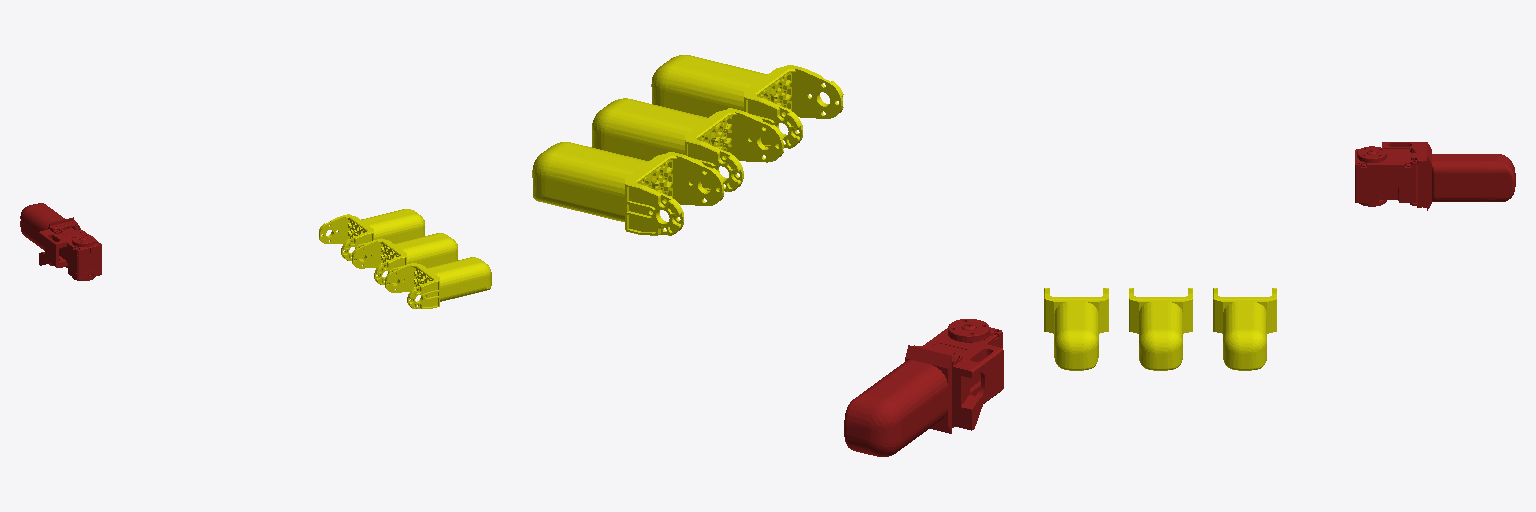
The robot description file, URDF, robot "onshape":
<robot name="onshape">
    <link name="palm_lower">
        <visual>
            <origin xyz="-0.020095249652862544332 0.025757756134899473244 -0.034722403578460216134" rpy="0 -0 0" />
            <geometry>
            <mesh filename="palm_lower.stl"/>
            </geometry>
            <material name="palm_lower_material">
            <color rgba="0.60392156862745094426 0.14901960784313725283 0.14901960784313725283 1.0"/>
            </material>
        </visual>
        <collision>
            <origin xyz="-0.020095249652862544332 0.025757756134899473244 -0.034722403578460216134" rpy="0 -0 0" />
            <geometry>
            <mesh filename="palm_lower.stl"/>
            </geometry>
        </collision>
        <inertial>
            <origin xyz="0 0 0" rpy="0 0 0"/>
            <mass value="0.237" />
            <inertia ixx="0.000354094" ixy="-0.000001193"  ixz="-0.000002445" iyy="0.000260915" iyz="-0.000002905" izz="0.000529257" />
        </inertial>
    </link>

    <link name="mcp_joint">
        <visual>
            <origin xyz="0.0084069022611744960438 0.0077662438597169954416 0.014657354985032912051" rpy="1.6375789613220999807e-15 -1.0210473302491019535e-30 1.7177968783327987474e-31" />
            <geometry>
            <mesh filename="mcp_joint.stl"/>
            </geometry>
            <material name="mcp_joint_material">
            <color rgba="0.86666666666666669627 0.86666666666666669627 0.050980392156862744391 1.0"/>
            </material>
        </visual>
        <collision>
            <origin xyz="0.0084069022611744960438 0.0077662438597169954416 0.014657354985032912051" rpy="1.6375789613220999807e-15 -1.0210473302491019535e-30 1.7177968783327987474e-31" />
            <geometry>
            <mesh filename="mcp_joint.stl"/>
            </geometry>
        </collision>
        <inertial>
            <origin xyz="0 0 0" rpy="0 0 0"/>
            <mass value="0.044" />
            <inertia ixx="0.000011499" ixy="0.000003049"  ixz="0.000000121" iyy="0.000007796" iyz="0.000000112" izz="0.000014759" />
        </inertial>
    </link>

<link name="pip">
<visual>
<origin xyz="0.0096433630922713280131 0.00029999999999998951117 0.00078403401041737645627" rpy="-1.570796326794896558 -1.570796326794896336 0" />
<geometry>
<mesh filename="pip.stl"/>
</geometry>
<material name="pip_material">
<color rgba="0.74901960784313725839 0.74901960784313725839 0.74901960784313725839 1.0"/>
</material>
</visual>
<collision>
<origin xyz="0.0096433630922713280131 0.00029999999999998951117 0.00078403401041737645627" rpy="-1.570796326794896558 -1.570796326794896336 0" />
<geometry>
<mesh filename="pip.stl"/>
</geometry>
</collision>
<inertial>
<origin xyz="0 0 0" rpy="0 0 0"/>
<mass value="0.032" />
<inertia ixx="0.000004798" ixy="0.000000012"  ixz="0.000000004" iyy="0.000002862" iyz="0.000000011" izz="0.000004234" />
</inertial>
</link>

<link name="dip">
<visual>
<origin xyz="0.021133352895225002849 -0.0084321191467048792201 0.0097850881620952408213" rpy="-3.141592653589793116 4.5075111242164408299e-32 4.4395481053923607589e-32" />
<geometry>
<mesh filename="dip.stl"/>
</geometry>
<material name="dip_material">
<color rgba="0.86666666666666669627 0.86666666666666669627 0.050980392156862744391 1.0"/>
</material>
</visual>
<collision>
<origin xyz="0.021133352895225002849 -0.0084321191467048792201 0.0097850881620952408213" rpy="-3.141592653589793116 4.5075111242164408299e-32 4.4395481053923607589e-32" />
<geometry>
<mesh filename="dip.stl"/>
</geometry>
</collision>
<inertial>
<origin xyz="0 0 0" rpy="0 0 0"/>
<mass value="0.037" />
<inertia ixx="0.000005542" ixy="-0.000000607"  ixz="-0.000000017" iyy="0.000005727" iyz="-0.000000023" izz="0.000006682" />
</inertial>
</link>

<link name="fingertip">
<visual>
<origin xyz="0.013286424108533503169 -0.0061142383865419869249 0.014499999999999497666" rpy="3.141592653589793116 1.1993117970061734707e-33 4.4395481053923607589e-32" />
<geometry>
<mesh filename="fingertip.stl"/>
</geometry>
<material name="fingertip_material">
<color rgba="0.86666666666666669627 0.86666666666666669627 0.050980392156862744391 1.0"/>
</material>
</visual>
<collision>
<origin xyz="0.013286424108533503169 -0.0061142383865419869249 0.014499999999999497666" rpy="3.141592653589793116 1.1993117970061734707e-33 4.4395481053923607589e-32" />
<geometry>
<mesh filename="fingertip.stl"/>
</geometry>
</collision>
<inertial>
<origin xyz="0 0 0" rpy="0 0 0"/>
<mass value="0.016" />
<inertia ixx="0.000003368" ixy="0.000000115"  ixz="0" iyy="0.000001556" iyz="0" izz="0.000002863" />
</inertial>
</link>

<joint name="0" type="revolute">
<origin xyz="-0.012200000000000007713 0.038099999999999994982 0.014500000000000000736" rpy="-1.570796326794896558 -1.0065212660796336576e-15 1.5707963267948943376" />
<parent link="mcp_joint" />
<child link="pip" />
<axis xyz="0 0 -1"/>
<limit effort="0.95" velocity="8.48" lower = "-1.047" upper = "1.047"/>
<joint_properties friction="0.0"/>
</joint>

<joint name="1" type="revolute">
<origin xyz="-0.0070952496528625457958 0.023057756134899472233 -0.01872240357846021927" rpy="1.5707963267948950037 1.5707963267948945596 0" />
<parent link="palm_lower" />
<child link="mcp_joint" />
<axis xyz="0 0 -1"/>
<limit effort="0.95" velocity="8.48" lower = "-0.314" upper = "2.23"/>
<joint_properties friction="0.0"/>
</joint>

<joint name="2" type="revolute">
<origin xyz="0.01499999999999996822 0.014299999999999904801 -0.012999999999999824196" rpy="1.5707963267948958919 -1.570796326794896336 0" />
<parent link="pip" />
<child link="dip" />
<axis xyz="0 0 -1"/>
<limit effort="0.95" velocity="8.48" lower = "-0.506" upper = "1.885"/>  
<joint_properties friction="0.0"/>
</joint>

<joint name="3" type="revolute">
<origin xyz="-4.0880582495572692636e-09 -0.036100004210367367397 0.00020000000000007858714" rpy="4.5935029425113685044e-17 -2.8730071914463794583e-16 4.4395481053923607589e-32" />
<parent link="dip" />
<child link="fingertip" />
<axis xyz="0 0 -1"/>
<limit effort="0.95" velocity="8.48" lower = "-0.366" upper = "2.042"/>   
<joint_properties friction="0.0"/>
</joint>

<link name="mcp_joint_2">
<visual>
<origin xyz="0.0084069022611744960438 0.0077662438597169954416 0.014657354985032913786" rpy="1.6375789613220999807e-15 -1.0076465469034000467e-30 2.1209300131419907151e-61" />
<geometry>
<mesh filename="mcp_joint.stl"/>
</geometry>
<material name="mcp_joint_material">
<color rgba="0.86666666666666669627 0.86666666666666669627 0.050980392156862744391 1.0"/>
</material>
</visual>
<collision>
<origin xyz="0.0084069022611744960438 0.0077662438597169954416 0.014657354985032913786" rpy="1.6375789613220999807e-15 -1.0076465469034000467e-30 2.1209300131419907151e-61" />
<geometry>
<mesh filename="mcp_joint.stl"/>
</geometry>
</collision>
<inertial>
<origin xyz="0 0 0" rpy="0 0 0"/>
<mass value="0.044" />
<inertia ixx="0.000011499" ixy="0.000003049"  ixz="0.000000121" iyy="0.000007796" iyz="0.000000112" izz="0.000014759" />
</inertial>
</link>

<link name="pip_2">
<visual>
<origin xyz="0.0096433630922713280131 0.00029999999999999471534 0.00078403401041737645627" rpy="-1.570796326794896558 -1.570796326794896336 0" />
<geometry>
<mesh filename="pip.stl"/>
</geometry>
<material name="pip_material">
<color rgba="0.74901960784313725839 0.74901960784313725839 0.74901960784313725839 1.0"/>
</material>
</visual>
<collision>
<origin xyz="0.0096433630922713280131 0.00029999999999999471534 0.00078403401041737645627" rpy="-1.570796326794896558 -1.570796326794896336 0" />
<geometry>
<mesh filename="pip.stl"/>
</geometry>
</collision>
<inertial>
<origin xyz="0 0 0" rpy="0 0 0"/>
<mass value="0.032" />
<inertia ixx="0.000004798" ixy="0.000000012"  ixz="0.000000004" iyy="0.000002862" iyz="0.000000011" izz="0.000004234" />
</inertial>
</link>

<link name="dip_2">
<visual>
<origin xyz="0.021133352895225002849 -0.0084321191467048653423 0.0097850881620952373519" rpy="-3.141592653589793116 2.1146933785271955805e-32 1.4408183216511868558e-31" />
<geometry>
<mesh filename="dip.stl"/>
</geometry>
<material name="dip_material">
<color rgba="0.86666666666666669627 0.86666666666666669627 0.050980392156862744391 1.0"/>
</material>
</visual>
<collision>
<origin xyz="0.021133352895225002849 -0.0084321191467048653423 0.0097850881620952373519" rpy="-3.141592653589793116 2.1146933785271955805e-32 1.4408183216511868558e-31" />
<geometry>
<mesh filename="dip.stl"/>
</geometry>
</collision>
<inertial>
<origin xyz="0 0 0" rpy="0 0 0"/>
<mass value="0.037" />
<inertia ixx="0.000005542" ixy="-0.000000607"  ixz="-0.000000017" iyy="0.000005727" iyz="-0.000000023" izz="0.000006682" />
</inertial>
</link>

<link name="fingertip_2">
<visual>
<origin xyz="0.01328642410853349623 -0.0061142383865420008027 0.014499999999999495931" rpy="3.141592653589793116 -4.3179597882835943107e-33 1.4408183216511868558e-31" />
<geometry>
<mesh filename="fingertip.stl"/>
</geometry>
<material name="fingertip_material">
<color rgba="0.86666666666666669627 0.86666666666666669627 0.050980392156862744391 1.0"/>
</material>
</visual>
<collision>
<origin xyz="0.01328642410853349623 -0.0061142383865420008027 0.014499999999999495931" rpy="3.141592653589793116 -4.3179597882835943107e-33 1.4408183216511868558e-31" />
<geometry>
<mesh filename="fingertip.stl"/>
</geometry>
</collision>
<inertial>
<origin xyz="0 0 0" rpy="0 0 0"/>
<mass value="0.016" />
<inertia ixx="0.000003368" ixy="0.000000115"  ixz="0" iyy="0.000001556" iyz="0" izz="0.000002863" />
</inertial>
</link>

<joint name="4" type="revolute">
<origin xyz="-0.012200000000000019856 0.038099999999999981104 0.01450000000000000594" rpy="-1.570796326794896558 -1.0065212760057939085e-15 1.5707963267948943376" />
<parent link="mcp_joint_2" />
<child link="pip_2" />
<axis xyz="0 0 -1"/>
<limit effort="0.95" velocity="8.48" lower = "-1.047" upper = "1.047"/>
<joint_properties friction="0.0"/>
</joint>

<joint name="5" type="revolute">
<origin xyz="-0.0070952496528625388569 -0.022392243865100525113 -0.018722403578460229678" rpy="1.570796326794896558 1.570796326794896558 0" />
<parent link="palm_lower" />
<child link="mcp_joint_2" />
<axis xyz="0 0 -1"/>
<limit effort="0.95" velocity="8.48" lower = "-0.314" upper = "2.23"/>
<joint_properties friction="0.0"/>
</joint>

<joint name="6" type="revolute">
<origin xyz="0.014999999999999975159 0.014300000000000000211 -0.013000000000000018485" rpy="1.5707963267948958919 -1.570796326794896336 0" />
<parent link="pip_2" />
<child link="dip_2" />
<axis xyz="0 0 -1"/>
<limit effort="0.95" velocity="8.48" lower = "-0.506" upper = "1.885"/>  
<joint_properties friction="0.0"/>
</joint>

<joint name="7" type="revolute">
<origin xyz="1.0061396160665481148e-16 -0.036099999999999854428 0.00020000000000007858714" rpy="4.5935029425113654229e-17 -2.8730071914463794583e-16 1.4408183216511868558e-31" />
<parent link="dip_2" />
<child link="fingertip_2" />
<axis xyz="0 0 -1"/>
<limit effort="0.95" velocity="8.48" lower = "-0.366" upper = "2.042"/>   
<joint_properties friction="0.0"/>
</joint>

<link name="mcp_joint_3">
<visual>
<origin xyz="0.0084069022611744995133 0.0077662438597169963089 0.014657354985032913786" rpy="1.6375789613220999807e-15 -1.0059504988632626953e-30 5.729641584552035421e-32" />
<geometry>
<mesh filename="mcp_joint.stl"/>
</geometry>
<material name="mcp_joint_material">
<color rgba="0.86666666666666669627 0.86666666666666669627 0.050980392156862744391 1.0"/>
</material>
</visual>
<collision>
<origin xyz="0.0084069022611744995133 0.0077662438597169963089 0.014657354985032913786" rpy="1.6375789613220999807e-15 -1.0059504988632626953e-30 5.729641584552035421e-32" />
<geometry>
<mesh filename="mcp_joint.stl"/>
</geometry>
</collision>
<inertial>
<origin xyz="0 0 0" rpy="0 0 0"/>
<mass value="0.044" />
<inertia ixx="0.000011499" ixy="0.000003049"  ixz="0.000000121" iyy="0.000007796" iyz="0.000000112" izz="0.000014759" />
</inertial>
</link>

<link name="pip_3">
<visual>
<origin xyz="0.0096433630922713314826 0.00029999999999998083755 0.00078403401041737645627" rpy="-1.570796326794896558 -1.570796326794896336 0" />
<geometry>
<mesh filename="pip.stl"/>
</geometry>
<material name="pip_material">
<color rgba="0.74901960784313725839 0.74901960784313725839 0.74901960784313725839 1.0"/>
</material>
</visual>
<collision>
<origin xyz="0.0096433630922713314826 0.00029999999999998083755 0.00078403401041737645627" rpy="-1.570796326794896558 -1.570796326794896336 0" />
<geometry>
<mesh filename="pip.stl"/>
</geometry>
</collision>
<inertial>
<origin xyz="0 0 0" rpy="0 0 0"/>
<mass value="0.032" />
<inertia ixx="0.000004798" ixy="0.000000012"  ixz="0.000000004" iyy="0.000002862" iyz="0.000000011" izz="0.000004234" />
</inertial>
</link>

<link name="dip_3">
<visual>
<origin xyz="0.021133352895225006318 -0.0084321191467048653423 0.0097850881620952373519" rpy="-3.141592653589793116 -1.4095651113919093005e-33 1.5565411607615035382e-32" />
<geometry>
<mesh filename="dip.stl"/>
</geometry>
<material name="dip_material">
<color rgba="0.86666666666666669627 0.86666666666666669627 0.050980392156862744391 1.0"/>
</material>
</visual>
<collision>
<origin xyz="0.021133352895225006318 -0.0084321191467048653423 0.0097850881620952373519" rpy="-3.141592653589793116 -1.4095651113919093005e-33 1.5565411607615035382e-32" />
<geometry>
<mesh filename="dip.stl"/>
</geometry>
</collision>
<inertial>
<origin xyz="0 0 0" rpy="0 0 0"/>
<mass value="0.037" />
<inertia ixx="0.000005542" ixy="-0.000000607"  ixz="-0.000000017" iyy="0.000005727" iyz="-0.000000023" izz="0.000006682" />
</inertial>
</link>

<link name="fingertip_3">
<visual>
<origin xyz="0.013286424108533501434 -0.0061142383865419869249 0.0144999999999994994" rpy="3.141592653589793116 8.6170716950575402125e-33 1.5565411607615035382e-32" />
<geometry>
<mesh filename="fingertip.stl"/>
</geometry>
<material name="fingertip_material">
<color rgba="0.86666666666666669627 0.86666666666666669627 0.050980392156862744391 1.0"/>
</material>
</visual>
<collision>
<origin xyz="0.013286424108533501434 -0.0061142383865419869249 0.0144999999999994994" rpy="3.141592653589793116 8.6170716950575402125e-33 1.5565411607615035382e-32" />
<geometry>
<mesh filename="fingertip.stl"/>
</geometry>
</collision>
<inertial>
<origin xyz="0 0 0" rpy="0 0 0"/>
<mass value="0.016" />
<inertia ixx="0.000003368" ixy="0.000000115"  ixz="0" iyy="0.000001556" iyz="0" izz="0.000002863" />
</inertial>
</link>

<joint name="8" type="revolute">
<origin xyz="-0.012200000000000004244 0.038100000000000001921 0.014499999999999999001" rpy="-1.570796326794896558 -1.0065212660796360242e-15 1.5707963267948943376" />
<parent link="mcp_joint_3" />
<child link="pip_3" />
<axis xyz="0 0 -1"/>
<limit effort="0.95" velocity="8.48" lower = "-1.047" upper = "1.047"/>
<joint_properties friction="0.0"/>
</joint>

<joint name="9" type="revolute">
<origin xyz="-0.0070952454426398371343 -0.067842243865100515521 -0.018722407666402932774" rpy="1.5707963267948950037 1.5707963267948945596 0" />
<parent link="palm_lower" />
<child link="mcp_joint_3" />
<axis xyz="0 0 -1"/>
<limit effort="0.95" velocity="8.48" lower = "-0.314" upper = "2.23"/>
<joint_properties friction="0.0"/>
</joint>

<joint name="10" type="revolute">
<origin xyz="0.014999999999999971689 0.014299999999999951639 -0.012999999999999959505" rpy="1.5707963267948958919 -1.570796326794896336 0" />
<parent link="pip_3" />
<child link="dip_3" />
<axis xyz="0 0 -1"/>
<limit effort="0.95" velocity="8.48" lower = "-0.506" upper = "1.885"/>  
<joint_properties friction="0.0"/>
</joint>

<joint name="11" type="revolute">
<origin xyz="9.7144514654701197287e-17 -0.036099999999999868305 0.00020000000000007511769" rpy="4.5935029425113685044e-17 -2.8730071914463799514e-16 1.5565411607615035382e-32" />
<parent link="dip_3" />
<child link="fingertip_3" />
<axis xyz="0 0 -1"/>
<limit effort="0.95" velocity="8.48" lower = "-0.366" upper = "2.042"/>   
<joint_properties friction="0.0"/>
</joint>

<link name="pip_4">
<visual>
<origin xyz="-0.0053566369077286714317 0.00029999999999999991951 0.00078403401041737819099" rpy="-1.570796326794896558 -1.570796326794896336 0" />
<geometry>
<mesh filename="pip.stl"/>
</geometry>
<material name="pip_material">
<color rgba="0.74901960784313725839 0.74901960784313725839 0.74901960784313725839 1.0"/>
</material>
</visual>
<collision>
<origin xyz="-0.0053566369077286714317 0.00029999999999999991951 0.00078403401041737819099" rpy="-1.570796326794896558 -1.570796326794896336 0" />
<geometry>
<mesh filename="pip.stl"/>
</geometry>
</collision>
<inertial>
<origin xyz="0 0 0" rpy="0 0 0"/>
<mass value="0.032" />
<inertia ixx="0.000004798" ixy="0.000000012"  ixz="0.000000004" iyy="0.000002862" iyz="0.000000011" izz="0.000004234" />
</inertial>
</link>

<link name="thumb_pip">
<visual>
<origin xyz="0.011961920770611186859 -5.3082538364890297089e-16 -0.015852648956664199681" rpy="1.570796326794896558 1.6050198443300152637e-46 -3.9204996250525192755e-59" />
<geometry>
<mesh filename="thumb_pip.stl"/>
</geometry>
<material name="thumb_pip_material">
<color rgba="0.86666666666666669627 0.86666666666666669627 0.050980392156862744391 1.0"/>
</material>
</visual>
<collision>
<origin xyz="0.011961920770611186859 -5.3082538364890297089e-16 -0.015852648956664199681" rpy="1.570796326794896558 1.6050198443300152637e-46 -3.9204996250525192755e-59" />
<geometry>
<mesh filename="thumb_pip.stl"/>
</geometry>
</collision>
<inertial>
<origin xyz="0 0 0" rpy="0 0 0"/>
<mass value="0.003" />
<inertia ixx="0.000000593" ixy="0"  ixz="0" iyy="0.000000549" iyz="0" izz="0.000000224" />
</inertial>
</link>

<link name="thumb_dip">
<visual>
<origin xyz="0.043968715707239175439 0.057952952973709198625 -0.0086286764493694757122" rpy="1.9428902930940098942e-16 3.2751579226442200773e-15 1.1123758529657360012e-46" />
<geometry>
<mesh filename="thumb_dip.stl"/>
</geometry>
<material name="thumb_dip_material">
<color rgba="0.86666666666666669627 0.86666666666666669627 0.050980392156862744391 1.0"/>
</material>
</visual>
<collision>
<origin xyz="0.043968715707239175439 0.057952952973709198625 -0.0086286764493694757122" rpy="1.9428902930940098942e-16 3.2751579226442200773e-15 1.1123758529657360012e-46" />
<geometry>
<mesh filename="thumb_dip.stl"/>
</geometry>
</collision>
<inertial>
<origin xyz="0 0 0" rpy="0 0 0"/>
<mass value="0.038" />
<inertia ixx="0.000008474" ixy="0.000000241"  ixz="0.000000026" iyy="0.000003841" iyz="0.000000025" izz="0.000007679" />
</inertial>
</link>

<link name="thumb_fingertip">
<visual>
<origin xyz="0.062559538462667388381 0.078459682911396988469 0.048992911807332215068" rpy="4.3790577010156367543e-47 -3.3306690738754701143e-16 1.2042408677791935383e-46" />
<geometry>
<mesh filename="thumb_fingertip.stl"/>
</geometry>
<material name="thumb_fingertip_material">
<color rgba="0.60392156862745094426 0.14901960784313725283 0.14901960784313725283 1.0"/>
</material>
</visual>
<collision>
<origin xyz="0.062559538462667388381 0.078459682911396988469 0.048992911807332215068" rpy="4.3790577010156367543e-47 -3.3306690738754701143e-16 1.2042408677791935383e-46" />
<geometry>
<mesh filename="thumb_fingertip.stl"/>
</geometry>
</collision>
<inertial>
<origin xyz="0 0 0" rpy="0 0 0"/>
<mass value="0.049" />
<inertia ixx="0.000020372" ixy="-0.000000489"  ixz="-0.00000003" iyy="0.000004336" iyz="-0.000000097" izz="0.000019845" />
</inertial>
</link>

<joint name="12" type="revolute">
<origin xyz="-0.069395249652862533996 -0.0012422438651005258004 -0.021622403578460215601" rpy="-8.2381766464939424156e-17 1.5707963267948956698 0" />
<parent link="palm_lower" />
<child link="pip_4" />
<axis xyz="0 0 -1"/>
<limit effort="0.95" velocity="8.48" lower = "-0.349" upper = "2.094"/> 
<joint_properties friction="0.0"/>
</joint>

<joint name="13" type="revolute">
<origin xyz="-2.7755575615628913511e-17 0.014300000000000005415 -0.013000000000000011546" rpy="1.5707963267948958919 -1.570796326794896336 0" />
<parent link="pip_4" />
<child link="thumb_pip" />
<axis xyz="0 0 -1"/>
<limit effort="0.95" velocity="8.48" lower = "-0.47" upper = "2.443"/> 
<joint_properties friction="0.0"/>
</joint>

<joint name="14" type="revolute">
<origin xyz="0 0.014499999999999966041 -0.017000000000000053263" rpy="-1.570796326794896558 1.6050198443300131245e-46 -1.9721522630516624601e-31" />
<parent link="thumb_pip" />
<child link="thumb_dip" />
<axis xyz="0 0 -1"/>
<limit effort="0.95" velocity="8.48" lower = "-1.20" upper = "1.90"/> 
<joint_properties friction="0.0"/>
</joint>

<joint name="15" type="revolute">
<origin xyz="-1.249000902703301108e-16 0.046599999999999863753 0.00019999999999997710581" rpy="1.5063958491491781023e-44 5.4234187233935260503e-31 3.141592653589793116" />
<parent link="thumb_dip" />
<child link="thumb_fingertip" />
<axis xyz="0 0 -1"/>
<limit effort="0.95" velocity="8.48" lower = "-1.34" upper = "1.88"/> 
<joint_properties friction="0.0"/>
</joint>

</robot>

--- Facts derived from the render (not from the file) ---
3 views of the same robot in one strip: view 1: azimuth 30°, elevation 25°; view 2: azimuth 150°, elevation 25°; view 3: azimuth 270°, elevation 25° (orthographic).
Model onshape with 17 links and 16 joints (16 revolute), rooted at palm_lower, posed all joints at 0.
Links seen in each view (by area): view 1: thumb_fingertip, fingertip_3, fingertip_2, fingertip; view 2: thumb_fingertip, fingertip, fingertip_2, fingertip_3; view 3: thumb_fingertip, fingertip_3, fingertip_2, fingertip.
Link boxes in pixels (x1,y1,x2,y2): thumb_fingertip: (20, 203, 101, 280); fingertip_3: (385, 257, 491, 308); fingertip_2: (352, 233, 457, 284); fingertip: (319, 209, 424, 260); thumb_fingertip: (844, 319, 1003, 456); fingertip: (532, 142, 724, 235); fingertip_2: (592, 98, 783, 191); fingertip_3: (651, 55, 843, 148); thumb_fingertip: (1355, 142, 1515, 210); fingertip_3: (1044, 288, 1108, 370); fingertip_2: (1129, 288, 1192, 370); fingertip: (1213, 288, 1276, 370).
Size in the robot's own frame: 0.2477 by 0.254 by 0.033 metres.
4 mesh visuals loaded from 8 distinct referenced files (2 binary STL); not drawn: 13 (reference not matched to a file when rendering).